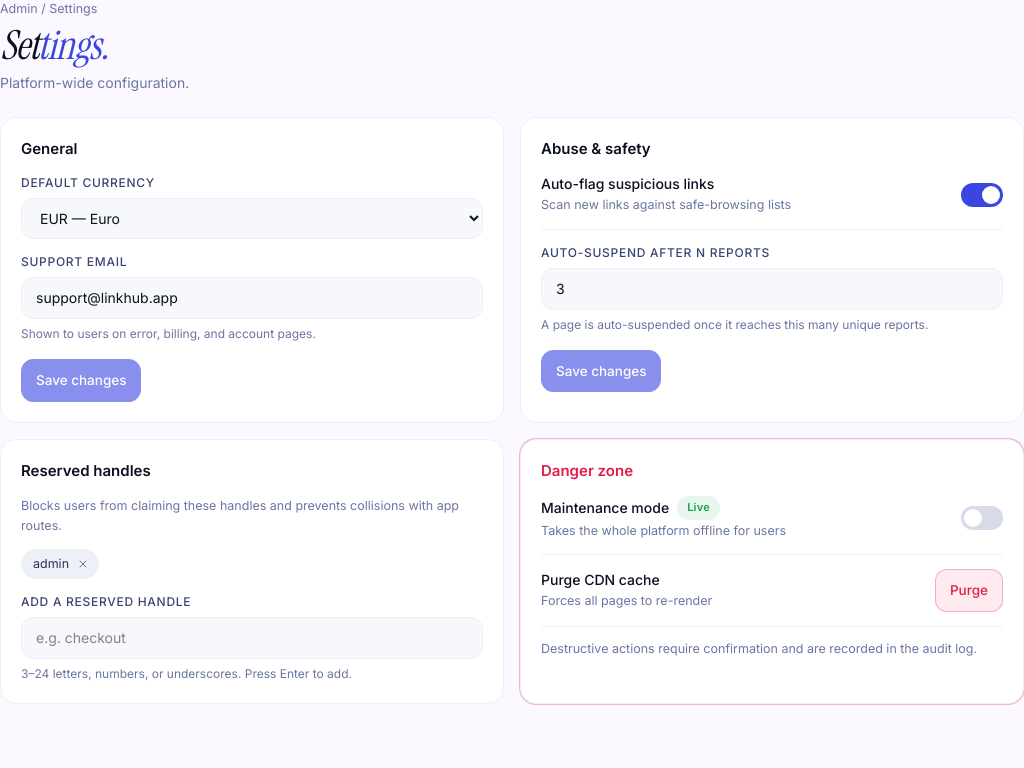
Test: SettingsClient › confirms before enabling maintenance mode
The width and height of the screenshot is (1024, 768).
Click the switch named "Maintenance mode".
click(982, 518)  # box left=961, top=506, right=1003, bottom=530
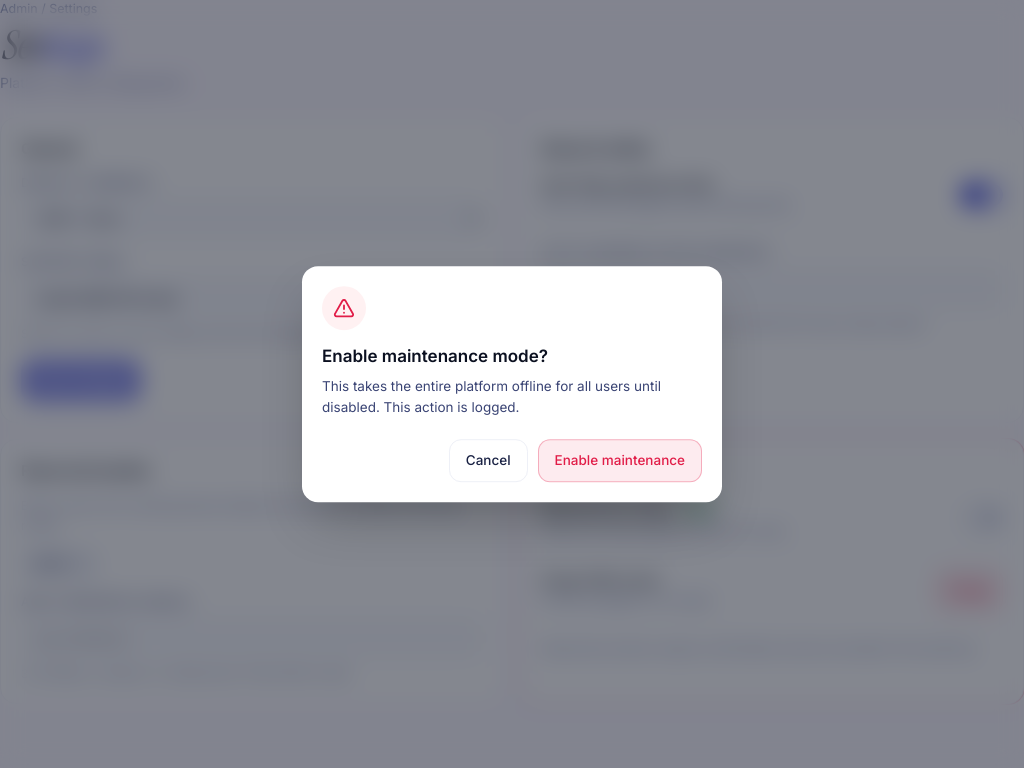
Result: the dialog "Enable maintenance mode?" is shown at left=302, top=266, right=722, bottom=502
Click the button "Enable maintenance".
click(620, 461)  # box left=538, top=440, right=702, bottom=482
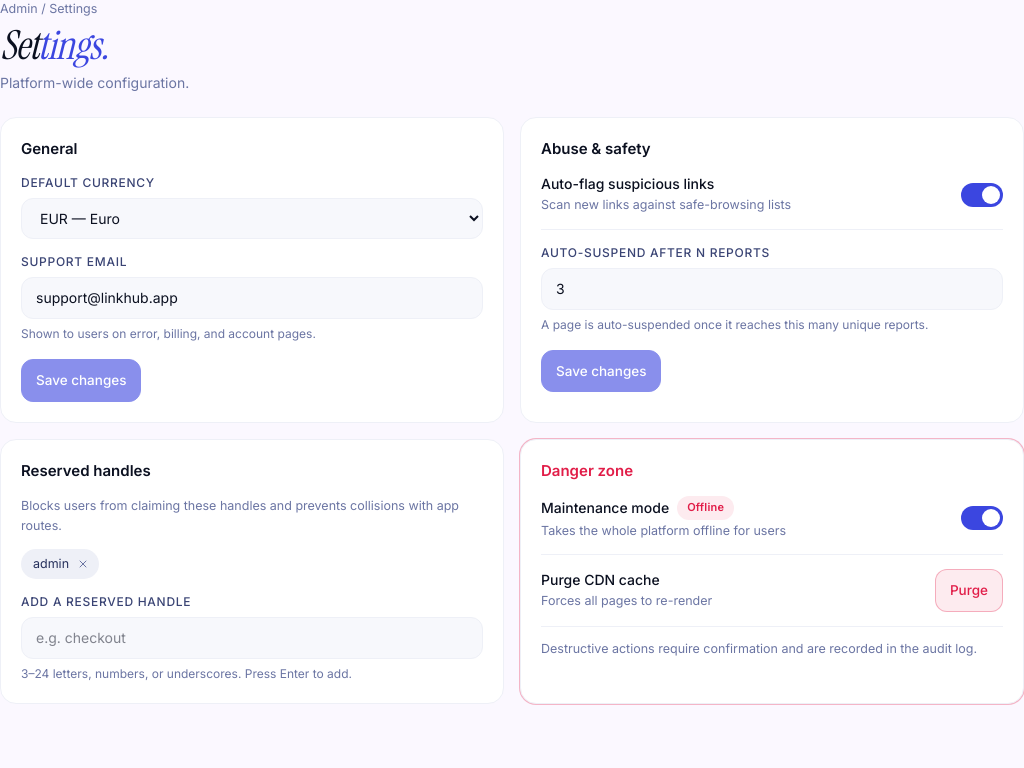
Result: the text "Offline" is shown at left=677, top=496, right=734, bottom=520
